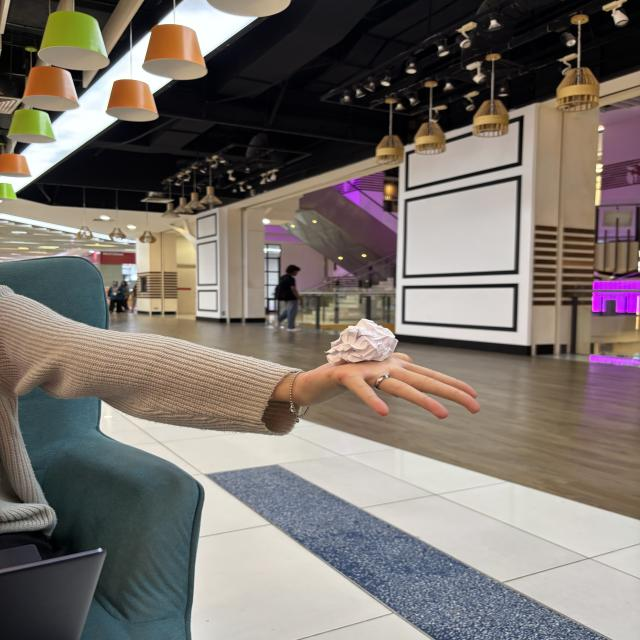crumpled_paper: (321, 316, 402, 368)
